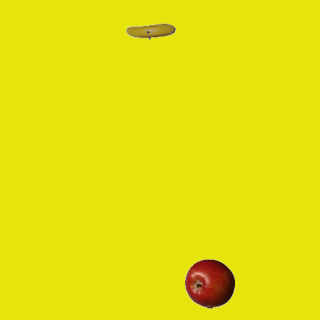Apple Braeburn: (184, 258, 234, 308)
Banana: (125, 6, 175, 56)
